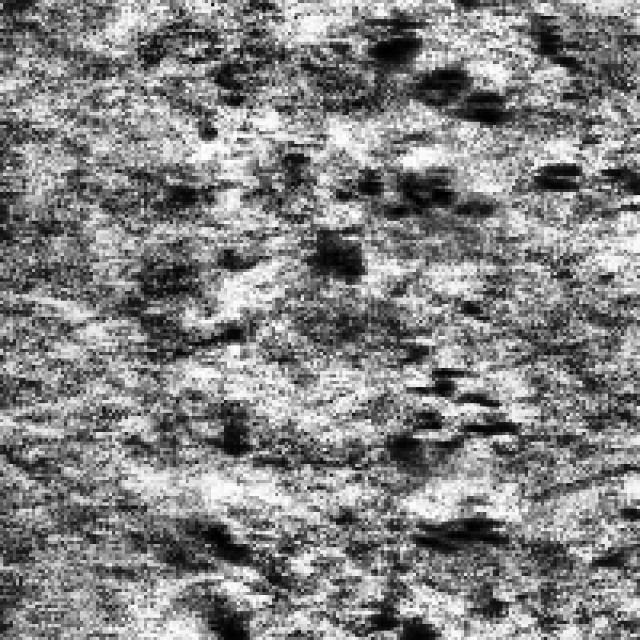Crazing: (298, 10, 534, 278), (371, 308, 522, 630)
